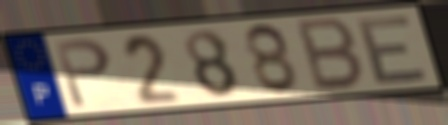2: (121, 31, 187, 105)
8: (243, 21, 299, 97), (182, 27, 241, 99)
B: (294, 15, 367, 94)
E: (355, 12, 432, 88)
P: (51, 35, 115, 111)
